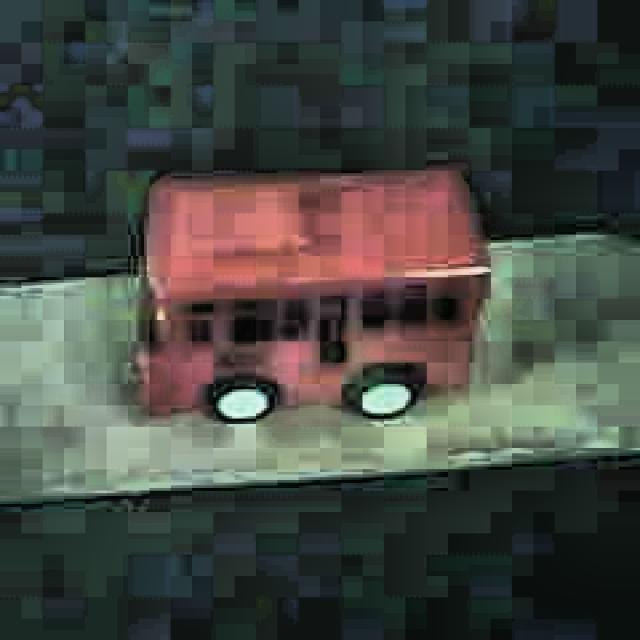bus: (126, 164, 493, 427)
